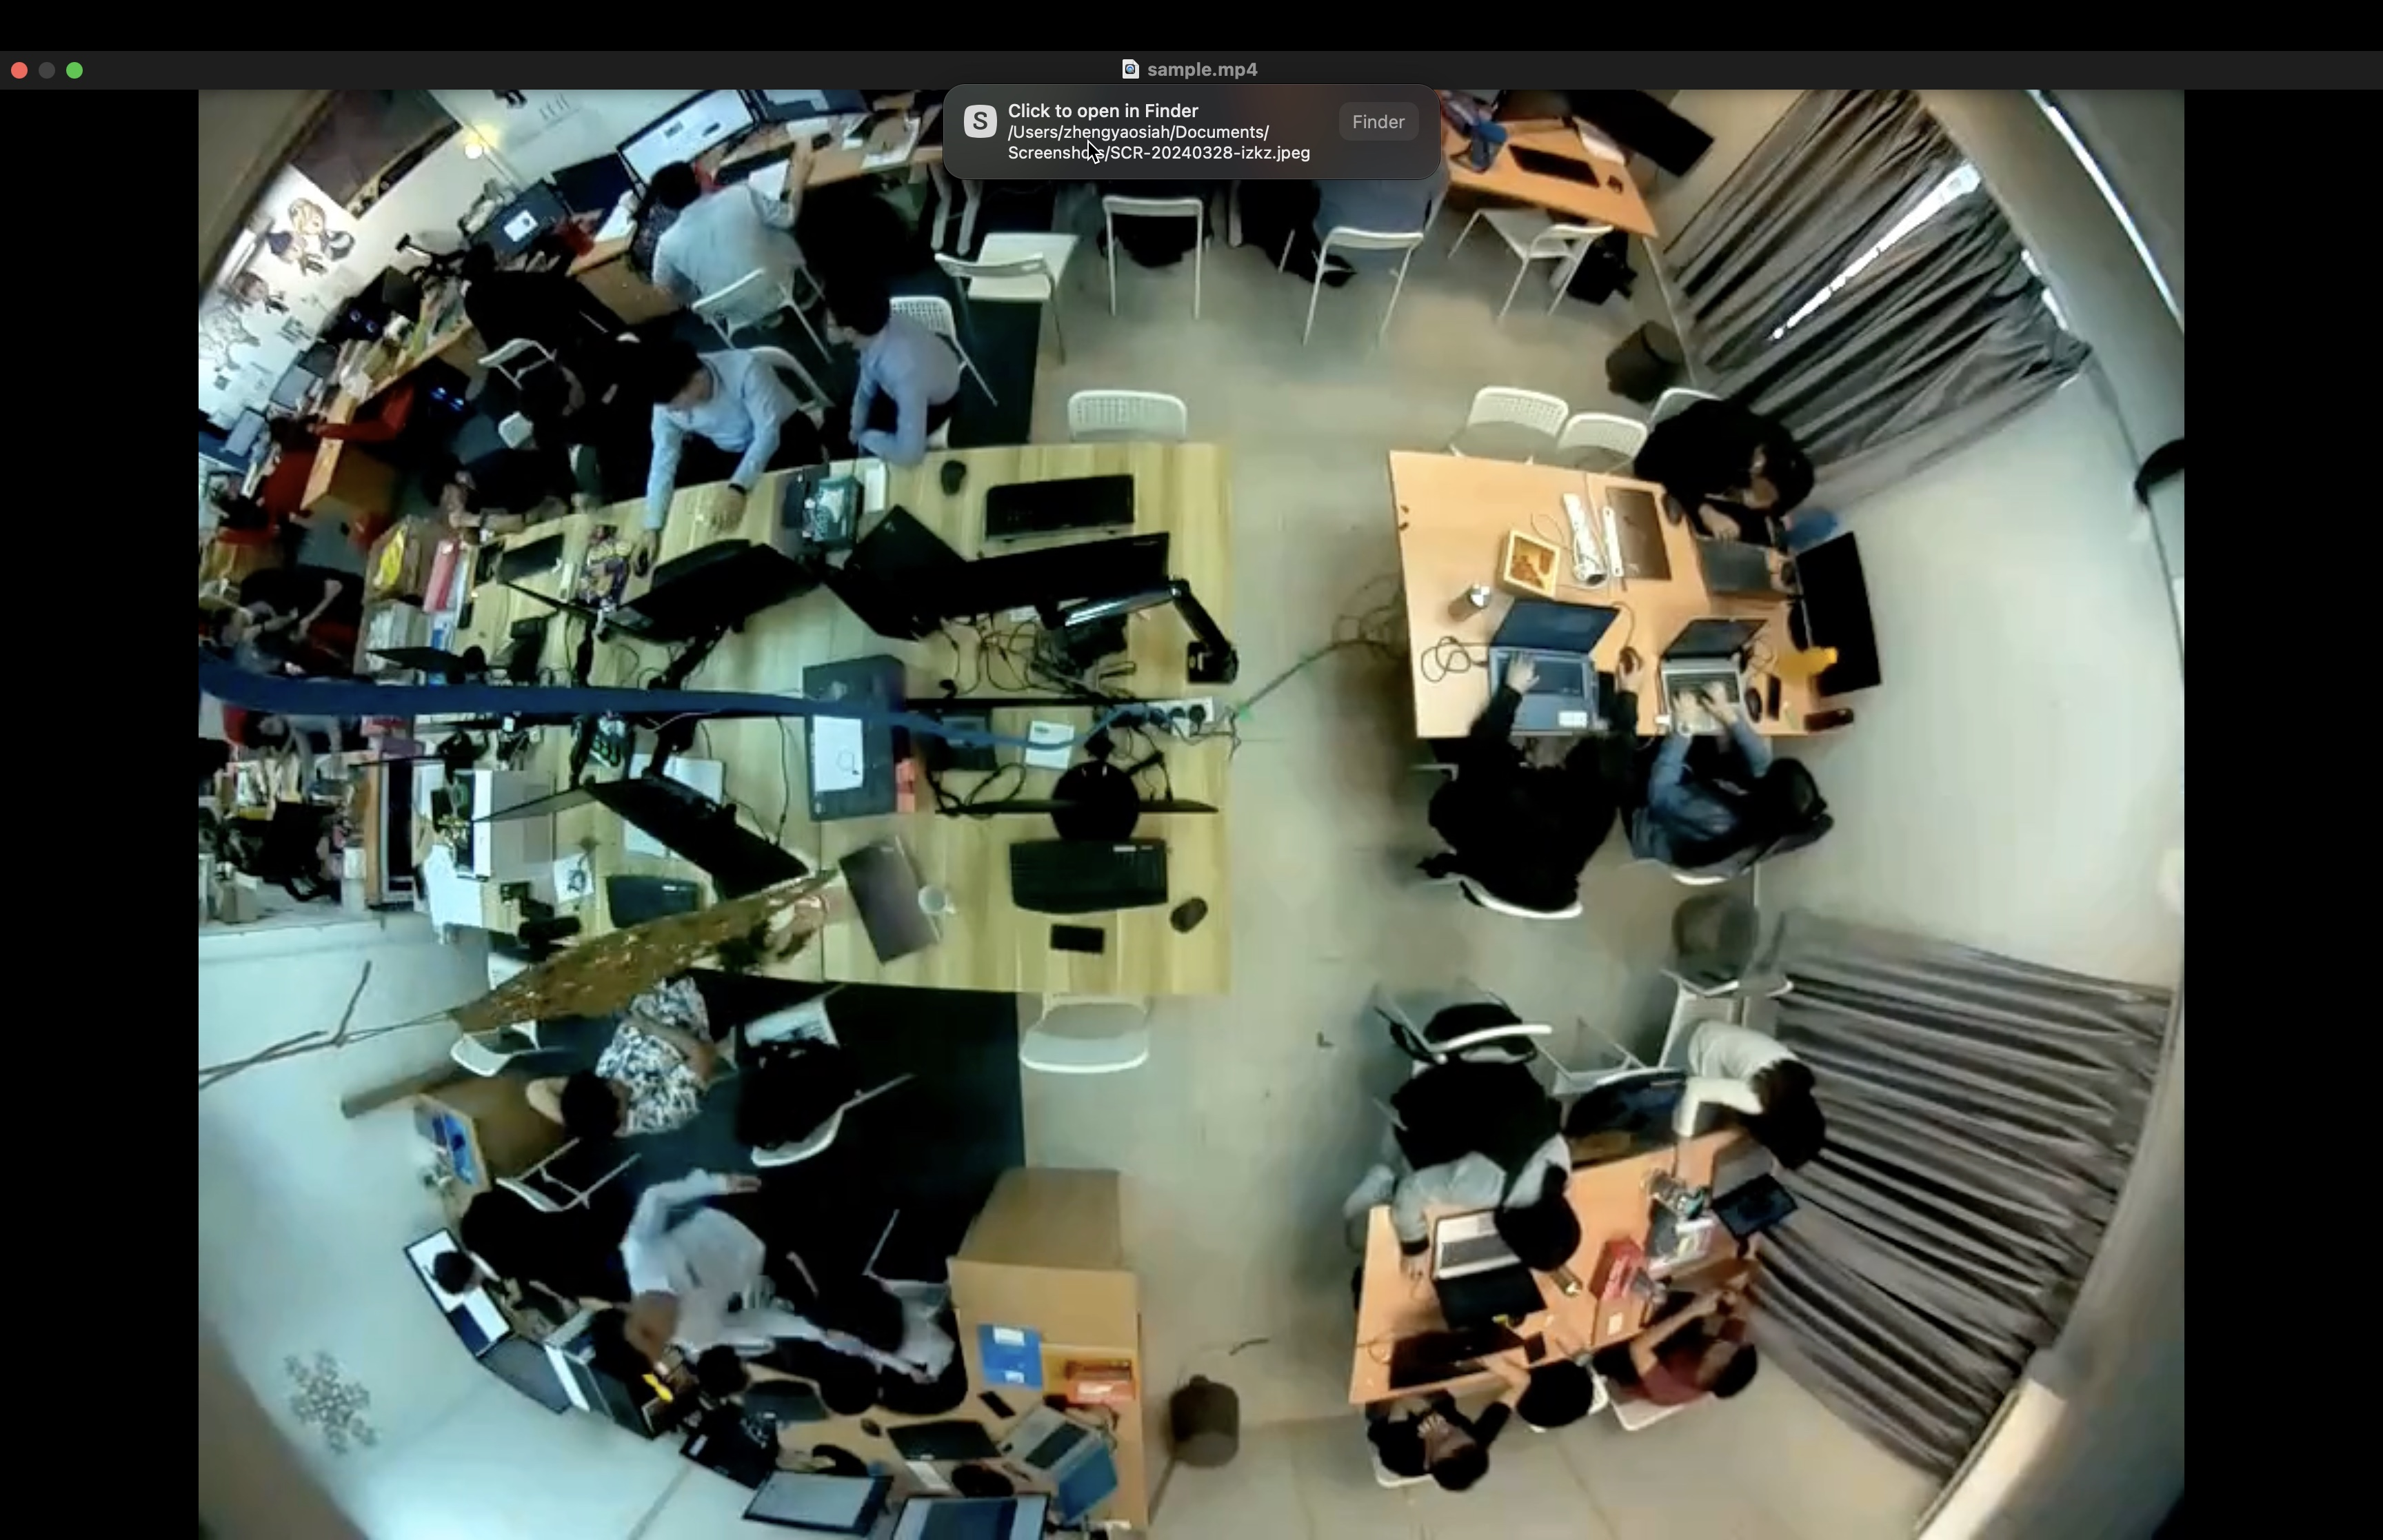Staff: (618, 1167, 856, 1359)
